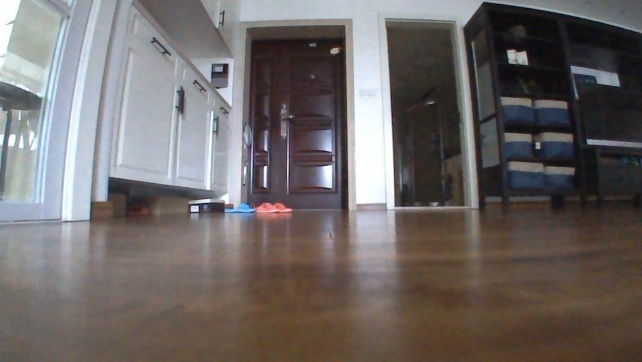door_anno: (246, 22, 346, 216)
slipper: (254, 199, 292, 215), (222, 201, 256, 215)
